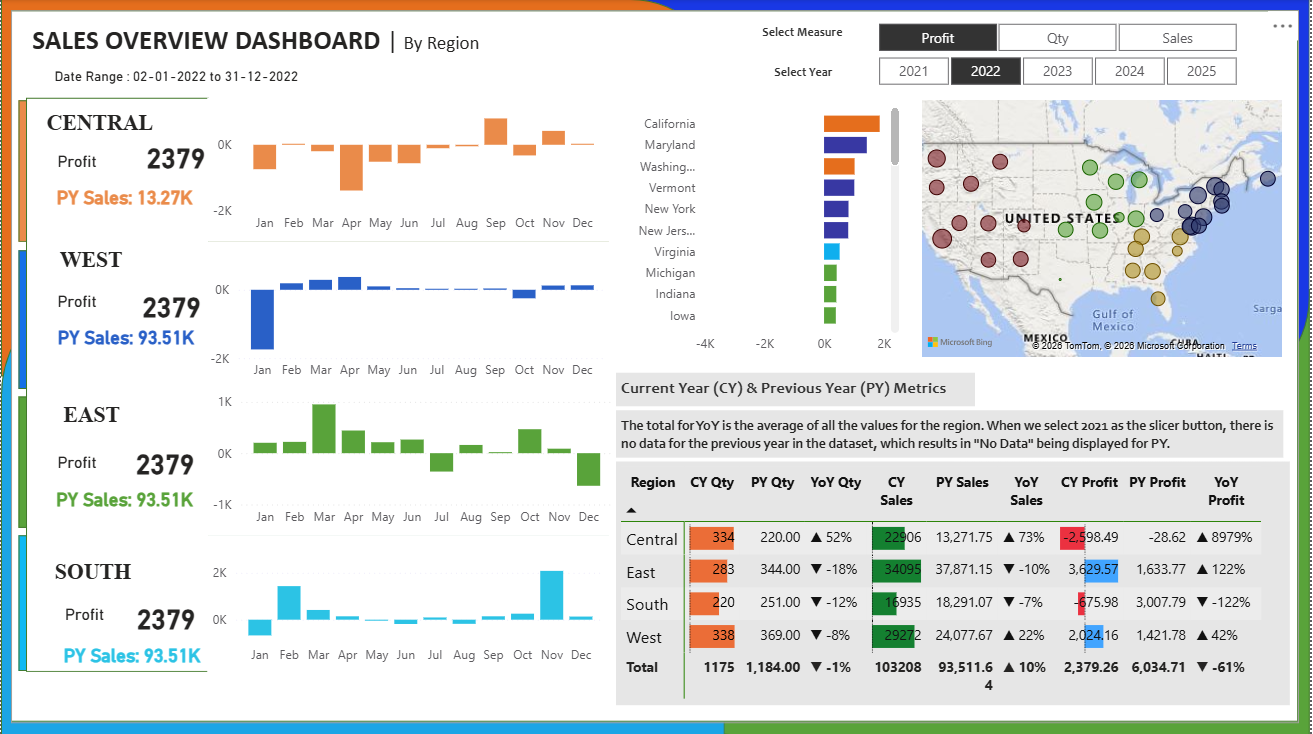

The page's visual inventory and layout, read from the dashboard file:
{"tool":"powerbi","page":{"name":"Page 1","canvas":[1280,720],"ordinal":0},"visuals":[{"type":"shape","box":[607.7,283.7,672.6,436.6],"z":0},{"type":"shape","box":[622.4,0,657.9,388.9],"z":1000},{"type":"shape","box":[0,0,708,369.3],"z":2000},{"type":"shape","box":[0,276.4,708,443.9],"z":3000},{"type":"shape","box":[10.1,11.6,1259.2,696],"z":4000},{"type":"shape","box":[17.3,245.5,577.6,135.7],"z":5000},{"type":"shape","box":[17.3,388.5,577.6,128.5],"z":6000},{"type":"shape","box":[17.3,524.2,577.6,132.9],"z":7000},{"type":"shape","box":[17.3,99.6,577.6,138.6],"z":8000},{"type":"shape","box":[24.5,96.8,179.1,561.7],"z":9000},{"type":"barChart","fields":{"Y":["Orders.Total Profit"],"Category":["Orders.State/Province"],"Series":["Orders.Region"]},"box":[606.5,92.4,277.3,262.8],"z":10000},{"type":"slicer","fields":{"Values":["Calendar Table.Year"]},"box":[833.2,50.5,400,37.5],"z":11000},{"type":"clusteredColumnChart","fields":{"Y":["Orders.Total Profit"],"Category":["Calendar Table.Months"]},"box":[201.8,524.6,393.8,135.7],"z":12000},{"type":"clusteredColumnChart","fields":{"Y":["Orders.Total Profit"],"Category":["Calendar Table.Months"]},"box":[199.3,237.2,397.4,144.3],"z":13000},{"type":"clusteredColumnChart","fields":{"Y":["Orders.Total Profit"],"Category":["Calendar Table.Months"]},"box":[202.2,379.8,401.4,144.4],"z":14000},{"type":"slicer","fields":{"Values":["Select Measure.Select Measure"]},"box":[833.2,17.3,400,39],"z":15000},{"type":"map","fields":{"Size":["Orders.Total Profit"],"Category":["Orders.State/Province"],"Series":["Orders.Region"]},"box":[896.8,94.5,362.5,261.4],"z":16000},{"type":"pivotTable","fields":{"Rows":["Orders.Region"],"Values":["Orders.CY Qty","Orders.PY Qty","Orders.YoY Qty","Orders.CY Sales","Orders.PY Sales","Orders.YoY Sales","Orders.CY Profit","Orders.PY Profit","Orders.YoY Profit"]},"box":[601.6,452.4,659.1,238.5],"z":17000},{"type":"clusteredColumnChart","fields":{"Y":["Orders.Total Profit"],"Category":["Calendar Table.Month"]},"box":[201.8,96.6,395,140.6],"z":18000},{"type":"card","fields":{"Values":["Orders.Total Profit"]},"box":[137,134.5,68.5,41.6],"z":19000},{"type":"card","fields":{"Values":["Orders.SalesPreviousYear"]},"box":[41.6,181,159,26.9],"z":20000},{"type":"card","fields":{"Values":["Orders.Total Profit"]},"box":[128.4,275.1,77,51.4],"z":21000},{"type":"card","fields":{"Values":["Orders.SalesPreviousYear"]},"box":[46.5,316.7,152,26],"z":22000},{"type":"card","fields":{"Values":["Orders.Total Profit"]},"box":[122.7,430.3,76.5,47.7],"z":23000},{"type":"card","fields":{"Values":["Orders.Total Profit"]},"box":[124.2,586.3,73.6,40.4],"z":24000},{"type":"card","fields":{"Values":["Orders.SalesPreviousYear"]},"box":[41.6,475.7,159,26],"z":25000},{"type":"card","fields":{"Values":["Orders.SalesPreviousYear"]},"box":[48.9,627.3,159,25.7],"z":26000},{"type":"textbox","box":[26,18.8,480.9,50.5],"z":27000},{"type":"card","fields":{"Values":["Orders.Date Range"]},"box":[17.3,62.1,309,30.3],"z":28000},{"type":"textbox","box":[25.7,103.9,141.8,36.7],"z":29000},{"type":"textbox","box":[28.1,542.9,123.5,36.7],"z":30000},{"type":"textbox","box":[25.7,390.1,126,36.7],"z":31000},{"type":"textbox","box":[25.7,238.5,125,36],"z":32000},{"type":"card","fields":{"Values":["Orders.Title"]},"box":[48.9,587,66,33],"z":33000},{"type":"card","fields":{"Values":["Orders.Title"]},"box":[41.6,437.8,66,33],"z":34000},{"type":"card","fields":{"Values":["Orders.Title"]},"box":[41.6,280,66,33],"z":35000},{"type":"card","fields":{"Values":["Orders.Title"]},"box":[41.6,143.1,66,33],"z":36000},{"type":"textbox","box":[735,17.3,98.2,34.7],"z":37000},{"type":"textbox","box":[737.9,56.3,95.3,27.4],"z":38000},{"type":"textbox","box":[602.2,402.9,652.7,46.2],"z":39000},{"type":"textbox","box":[601.6,365.6,351,33],"z":40000}]}

Visuals, with their boxes in screenshot pixels (x1, y1, x2, y2), scaled from the page's 1280x720 canvas onto the 1313x734 screenshot:
shape: pyautogui.locateOnScreen(623, 289, 1312, 733)
shape: pyautogui.locateOnScreen(638, 0, 1312, 396)
shape: pyautogui.locateOnScreen(0, 0, 726, 376)
shape: pyautogui.locateOnScreen(0, 282, 726, 733)
shape: pyautogui.locateOnScreen(10, 12, 1302, 721)
shape: pyautogui.locateOnScreen(18, 250, 610, 389)
shape: pyautogui.locateOnScreen(18, 396, 610, 527)
shape: pyautogui.locateOnScreen(18, 534, 610, 670)
shape: pyautogui.locateOnScreen(18, 102, 610, 243)
shape: pyautogui.locateOnScreen(25, 99, 209, 671)
barChart - Orders.Total Profit x Orders.State/Province: pyautogui.locateOnScreen(622, 94, 907, 362)
slicer - Calendar Table.Year: pyautogui.locateOnScreen(855, 51, 1265, 90)
clusteredColumnChart - Orders.Total Profit x Calendar Table.Months: pyautogui.locateOnScreen(207, 535, 611, 673)
clusteredColumnChart - Orders.Total Profit x Calendar Table.Months: pyautogui.locateOnScreen(204, 242, 612, 389)
clusteredColumnChart - Orders.Total Profit x Calendar Table.Months: pyautogui.locateOnScreen(207, 387, 619, 534)
slicer - Select Measure.Select Measure: pyautogui.locateOnScreen(855, 18, 1265, 57)
map - Orders.Total Profit x Orders.State/Province: pyautogui.locateOnScreen(920, 96, 1292, 363)
pivotTable - Orders.Region x Orders.CY Qty: pyautogui.locateOnScreen(617, 461, 1293, 704)
clusteredColumnChart - Orders.Total Profit x Calendar Table.Month: pyautogui.locateOnScreen(207, 98, 612, 242)
card - Orders.Total Profit: pyautogui.locateOnScreen(141, 137, 211, 180)
card - Orders.SalesPreviousYear: pyautogui.locateOnScreen(43, 185, 206, 212)
card - Orders.Total Profit: pyautogui.locateOnScreen(132, 280, 211, 333)
card - Orders.SalesPreviousYear: pyautogui.locateOnScreen(48, 323, 204, 349)
card - Orders.Total Profit: pyautogui.locateOnScreen(126, 439, 204, 487)
card - Orders.Total Profit: pyautogui.locateOnScreen(127, 598, 203, 639)
card - Orders.SalesPreviousYear: pyautogui.locateOnScreen(43, 485, 206, 511)
card - Orders.SalesPreviousYear: pyautogui.locateOnScreen(50, 639, 213, 666)
textbox: pyautogui.locateOnScreen(27, 19, 520, 71)
card - Orders.Date Range: pyautogui.locateOnScreen(18, 63, 335, 94)
textbox: pyautogui.locateOnScreen(26, 106, 172, 143)
textbox: pyautogui.locateOnScreen(29, 553, 156, 591)
textbox: pyautogui.locateOnScreen(26, 398, 156, 435)
textbox: pyautogui.locateOnScreen(26, 243, 155, 280)
card - Orders.Title: pyautogui.locateOnScreen(50, 598, 118, 632)
card - Orders.Title: pyautogui.locateOnScreen(43, 446, 110, 480)
card - Orders.Title: pyautogui.locateOnScreen(43, 285, 110, 319)
card - Orders.Title: pyautogui.locateOnScreen(43, 146, 110, 180)
textbox: pyautogui.locateOnScreen(754, 18, 855, 53)
textbox: pyautogui.locateOnScreen(757, 57, 855, 85)
textbox: pyautogui.locateOnScreen(618, 411, 1287, 458)
textbox: pyautogui.locateOnScreen(617, 373, 977, 406)
